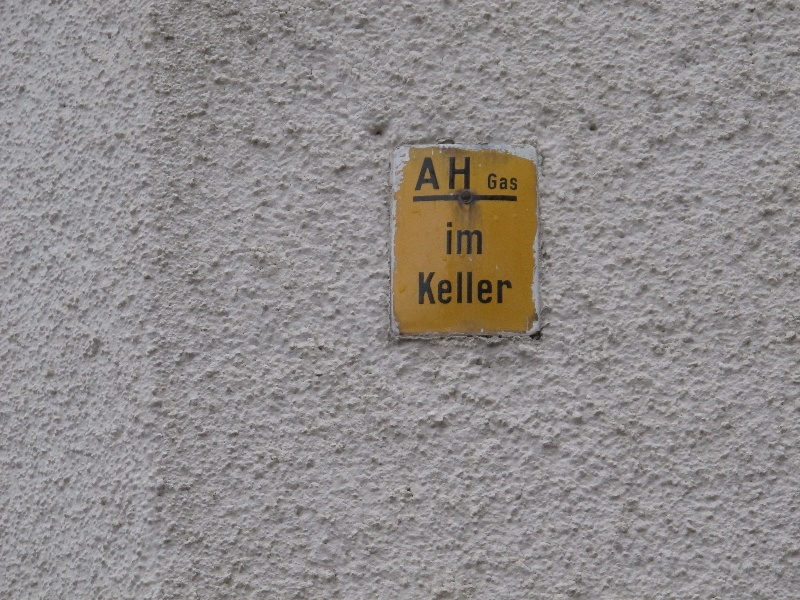text: (497, 270, 513, 305), (433, 270, 448, 305), (449, 270, 464, 305), (465, 270, 480, 305), (481, 270, 496, 305), (433, 157, 448, 190), (449, 157, 464, 190), (449, 223, 464, 255), (465, 223, 480, 255), (419, 270, 432, 305), (497, 173, 512, 191), (425, 157, 432, 190), (465, 157, 470, 190), (488, 173, 496, 191), (513, 173, 518, 191), (481, 223, 483, 255), (447, 223, 448, 255)
